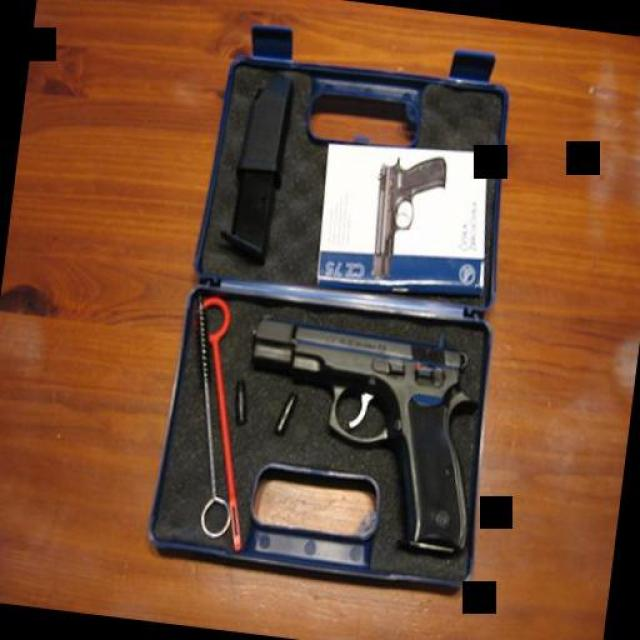gun: (224, 314, 490, 556), (364, 151, 450, 285)
